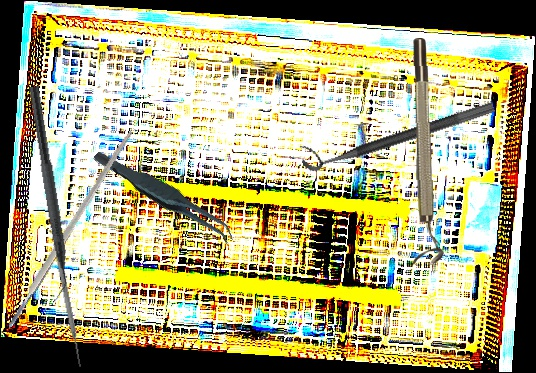Chopper: (13, 85, 77, 304)
Fixation Ring: (297, 84, 496, 176), (409, 37, 444, 266)
Pusher: (51, 241, 85, 369)
Scalpel Handle: (4, 128, 135, 330)
Tissue Forceps: (91, 124, 239, 269)
